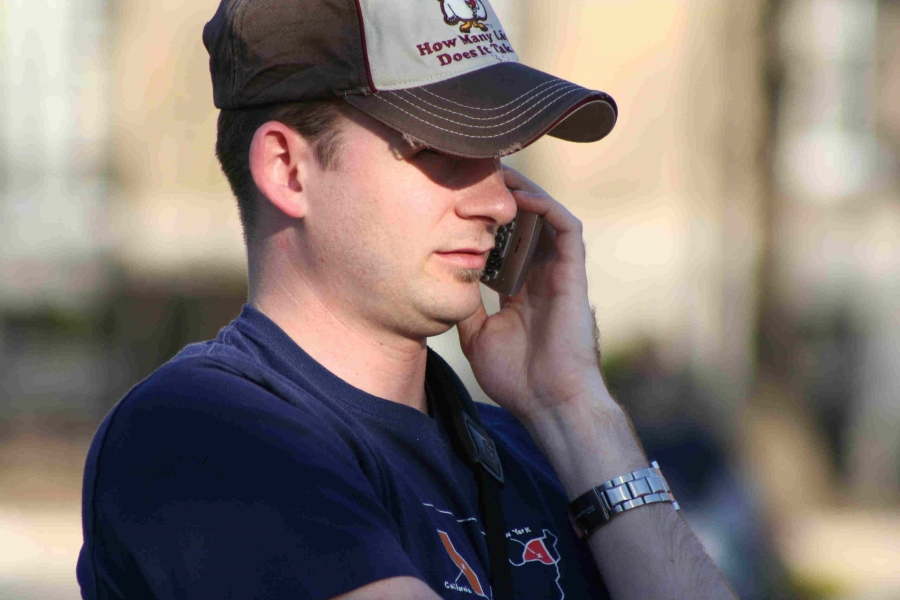phone: (490, 172, 561, 310)
